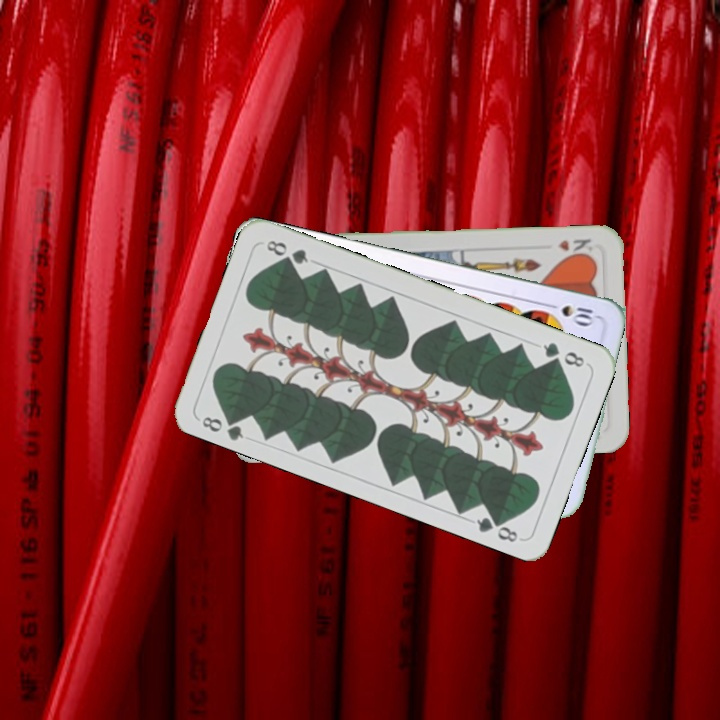G8: (198, 409, 246, 443), (539, 338, 587, 370)
HK: (554, 235, 594, 260)
S10: (542, 299, 600, 328)
